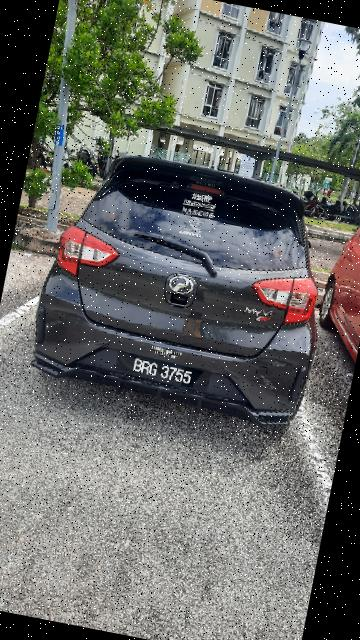License_Plate: (114, 348, 213, 398)
car: (17, 135, 353, 439)
